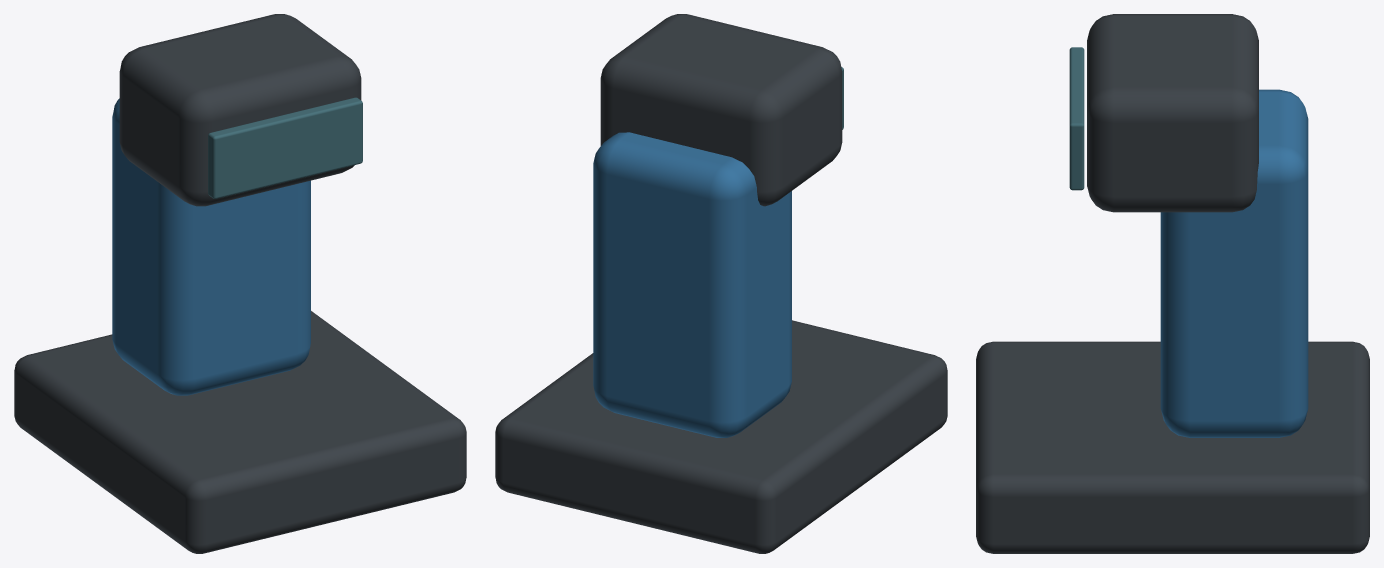
File: fencing-club-and-tournament-piste-membership-scanner-e27ac5cd__31251.glb
3 renders of one model, left to right at view 1: azimuth 30°, elevation 25°; view 2: azimuth 150°, elevation 25°; view 3: azimuth 270°, elevation 25°, orthographic. The views are drawn at different scales.
Visible parts, largest first — view 1: membership-scanner; view 2: membership-scanner; view 3: membership-scanner.
Boxes of the visible parts, x1,y1,x2,y2 form: membership-scanner: (14, 14, 466, 553); membership-scanner: (495, 14, 947, 553); membership-scanner: (976, 14, 1369, 553).
Size of the model in its own units: 0.14 by 0.195 by 0.16.
